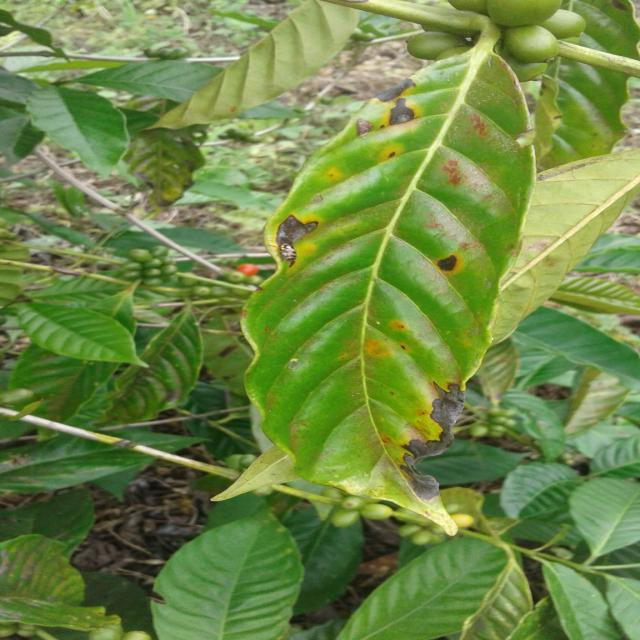Enfermedad-Roya: (242, 52, 536, 537)
